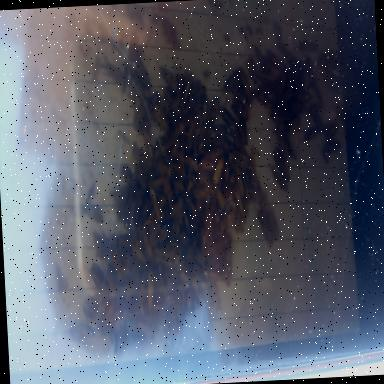pbw: (273, 146, 290, 182), (109, 241, 124, 281), (270, 164, 290, 194), (134, 58, 152, 91), (158, 63, 178, 91), (162, 18, 180, 49), (134, 270, 147, 312), (208, 276, 222, 314), (92, 228, 108, 261), (130, 146, 150, 172), (163, 86, 180, 116), (258, 210, 272, 246), (136, 318, 156, 343), (238, 66, 252, 101), (247, 160, 258, 204), (252, 87, 272, 111), (218, 108, 238, 132), (128, 196, 144, 226), (120, 164, 136, 194), (102, 59, 120, 85), (86, 201, 106, 224), (266, 207, 278, 245), (266, 50, 284, 75), (231, 98, 249, 123), (191, 272, 205, 304), (154, 265, 165, 305), (130, 88, 141, 128), (148, 186, 160, 222), (234, 85, 251, 110), (153, 104, 168, 132), (152, 252, 180, 267), (223, 246, 233, 288), (170, 195, 184, 225), (210, 155, 224, 185), (145, 93, 161, 119), (114, 281, 138, 298), (101, 299, 116, 326), (207, 96, 220, 127), (114, 233, 136, 251), (227, 149, 249, 167), (283, 134, 297, 162), (253, 44, 267, 72), (133, 166, 148, 192), (198, 168, 213, 194), (115, 189, 128, 219), (191, 260, 207, 284), (203, 212, 213, 250), (142, 228, 152, 265), (274, 72, 287, 100), (205, 265, 224, 284), (245, 54, 257, 84), (198, 224, 208, 260), (145, 270, 154, 310), (282, 76, 294, 106), (222, 71, 239, 92), (323, 120, 340, 141), (142, 126, 153, 158), (210, 235, 232, 251), (234, 187, 245, 219), (281, 43, 296, 66), (236, 173, 246, 207), (106, 263, 116, 297), (164, 176, 174, 210), (154, 157, 170, 178), (129, 243, 145, 264), (192, 79, 202, 112), (277, 128, 287, 161), (256, 180, 266, 213), (168, 160, 186, 178), (142, 208, 156, 231), (161, 308, 171, 340), (298, 38, 318, 54), (176, 288, 185, 323), (239, 115, 249, 146), (184, 238, 198, 260), (154, 224, 168, 246), (294, 92, 312, 109), (171, 120, 186, 140), (311, 114, 326, 134), (296, 58, 305, 90), (318, 50, 334, 68), (241, 174, 251, 202), (181, 74, 191, 102), (186, 122, 196, 150), (191, 121, 202, 146), (257, 78, 274, 94), (184, 153, 199, 171), (121, 64, 131, 91), (324, 140, 342, 155), (273, 23, 283, 49), (310, 80, 322, 101), (187, 170, 198, 192), (232, 212, 243, 234), (284, 115, 300, 130), (200, 96, 208, 126), (208, 122, 225, 136), (183, 286, 192, 312), (301, 129, 317, 143), (156, 140, 170, 156), (306, 103, 323, 116), (327, 64, 340, 81), (222, 200, 232, 222), (186, 196, 196, 218), (228, 168, 240, 186), (191, 186, 209, 198), (148, 176, 163, 190), (305, 58, 313, 84), (272, 112, 290, 123), (174, 257, 186, 273), (216, 186, 224, 209), (169, 142, 179, 160), (172, 179, 184, 194), (182, 212, 190, 232), (174, 236, 192, 244)
